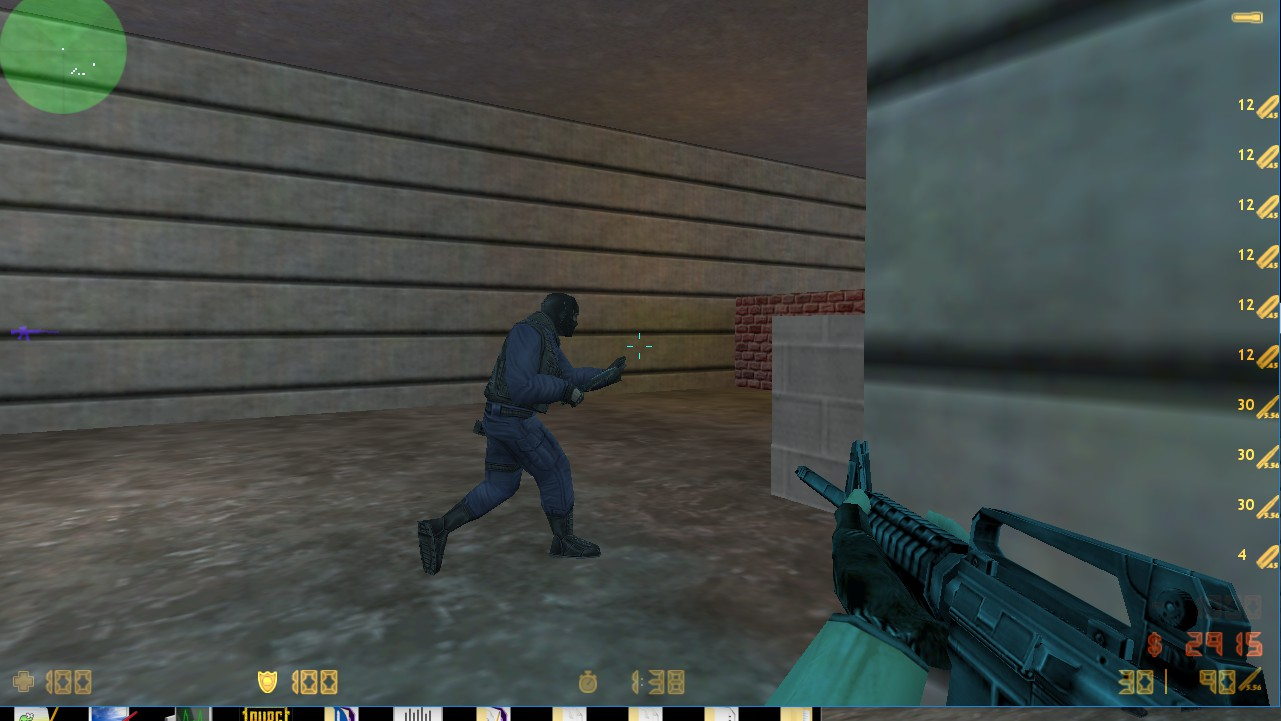person: (424, 272, 603, 574)
